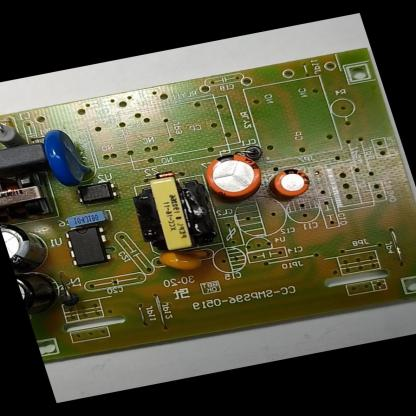Cap1: (196, 147, 270, 204)
Cap2: (265, 162, 315, 201)
Cap3: (0, 214, 58, 270)
Cap4: (14, 263, 68, 322)
MOSFET: (61, 222, 116, 271)
Mov: (36, 121, 96, 190)
Resistor: (0, 112, 27, 150)
Transformer: (121, 168, 225, 258), (0, 168, 57, 226)
